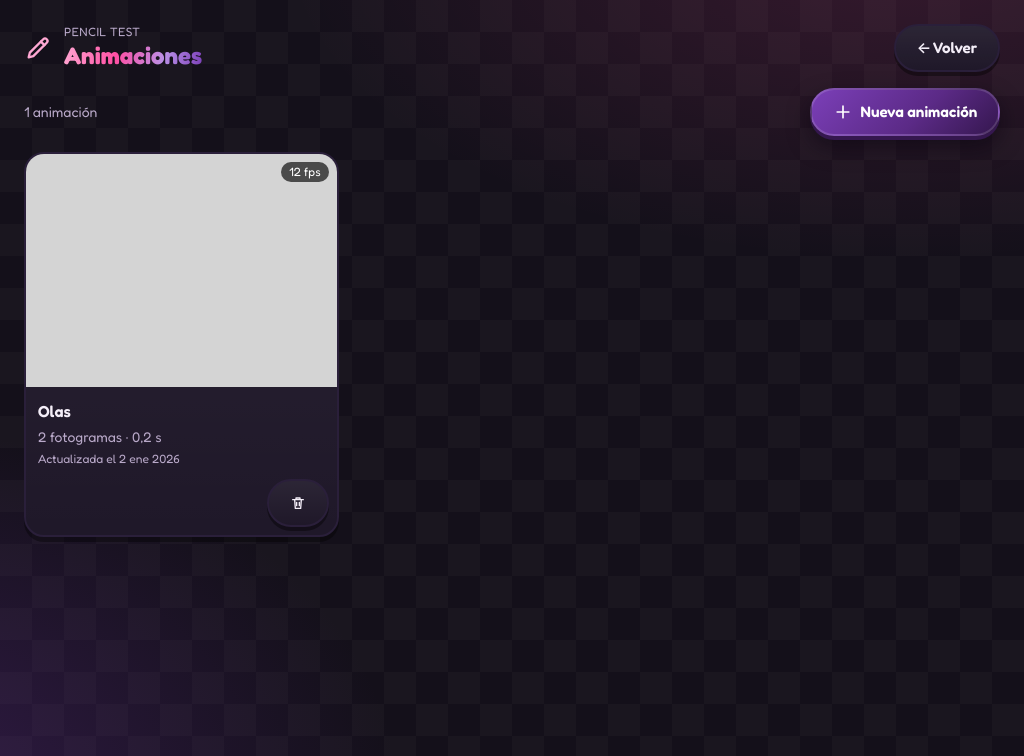
Test case: Animaciones › opens the guided creation panel
Step 1. Click the button "Nueva animación" → (905, 112), box left=810, top=88, right=1000, bottom=136
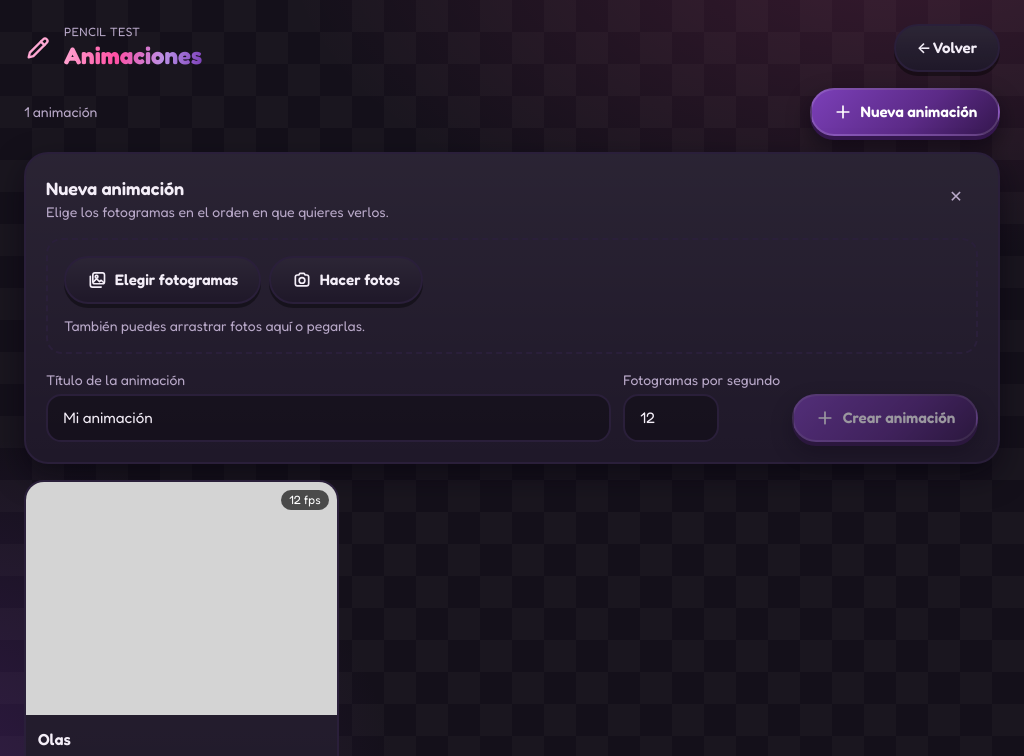
Expected: the heading "Nueva animación" is shown, left=46, top=177, right=184, bottom=199
Expected: the text "También puedes arrastrar fotos aquí o pegarlas." is shown, left=64, top=317, right=365, bottom=334
